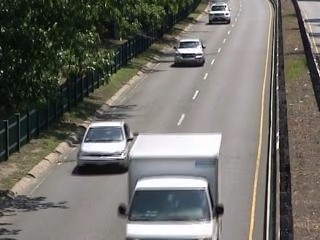car: (75, 118, 139, 174), (172, 37, 209, 70), (206, 2, 235, 25)
truck: (124, 131, 235, 240)
